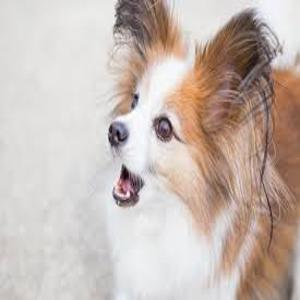yell: (106, 1, 300, 299)
